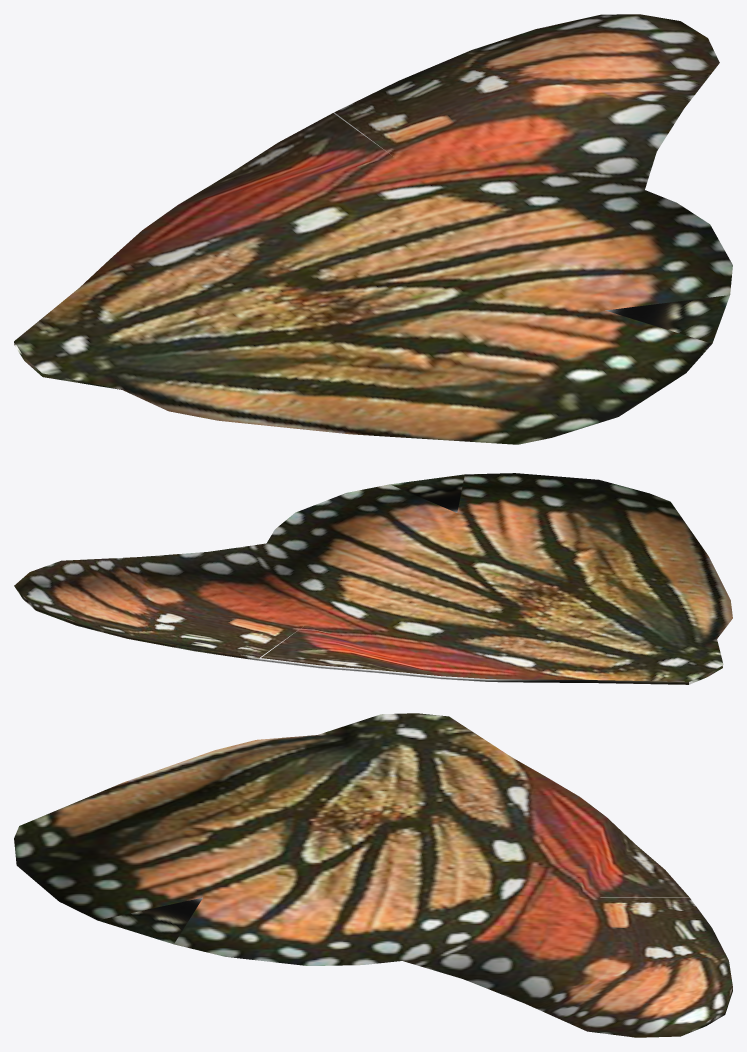
Rendered from aladerecha.obj.
3 renders of one model, top to bottom at view 1: azimuth 30°, elevation 25°; view 2: azimuth 150°, elevation 25°; view 3: azimuth 270°, elevation 25°, orthographic. The views are drawn at different scales.
Parts seen in each view (by area): view 1: ALADER_Material.001; view 2: ALADER_Material.001; view 3: ALADER_Material.001.
Boxes of the visible parts, <box> form: ALADER_Material.001: <box>14,14,732,444</box>; ALADER_Material.001: <box>14,473,732,684</box>; ALADER_Material.001: <box>14,713,732,1037</box>.
Bounding box in the file's own units: 0.2794 × 0.0135 × 0.2397.
